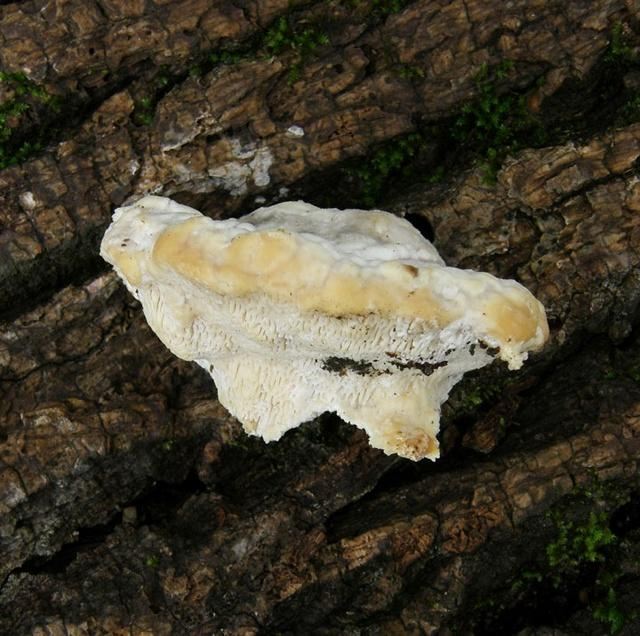poisonous_mushroom: (97, 191, 550, 464)
